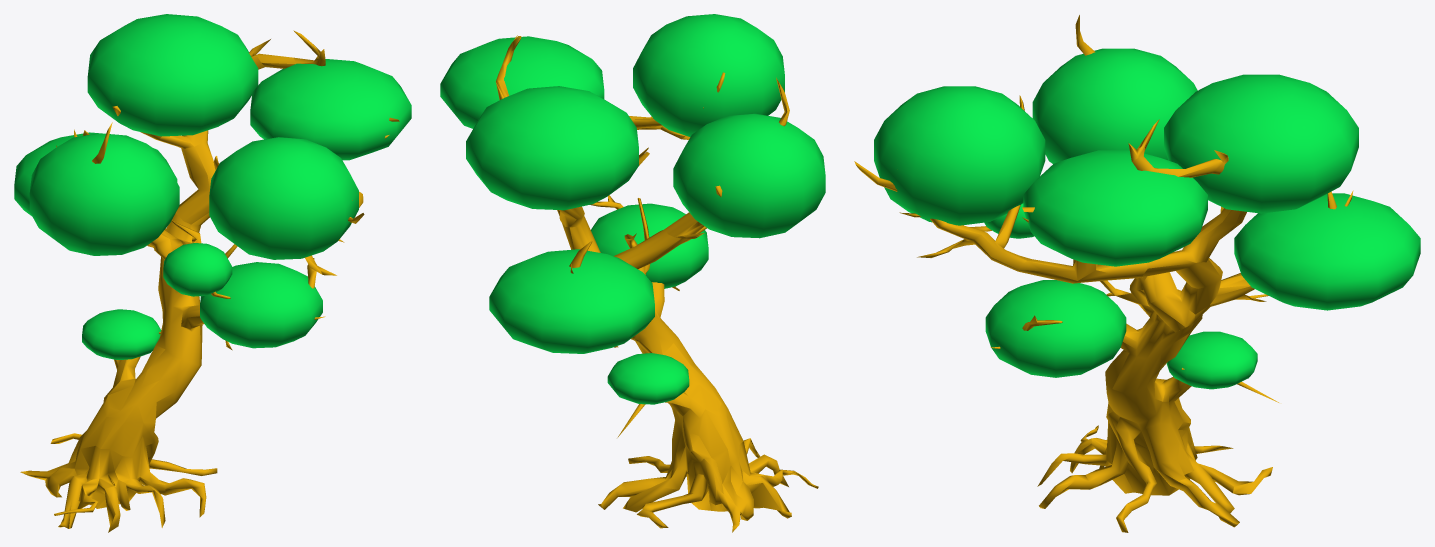
File: forunity.fbx
3 renders of one model, left to right at view 1: azimuth 30°, elevation 25°; view 2: azimuth 150°, elevation 25°; view 3: azimuth 270°, elevation 25°, orthographic. The views are drawn at different scales.
Visible parts, largest first — view 1: pSphere3; view 2: pSphere3; view 3: pSphere3.
Part boxes in pixels (x1=…): pSphere3: x1=14, y1=14, x2=411, y2=532; pSphere3: x1=440, y1=14, x2=825, y2=532; pSphere3: x1=854, y1=15, x2=1420, y2=532.
Size of the model in its own units: 376 by 427 by 452.
